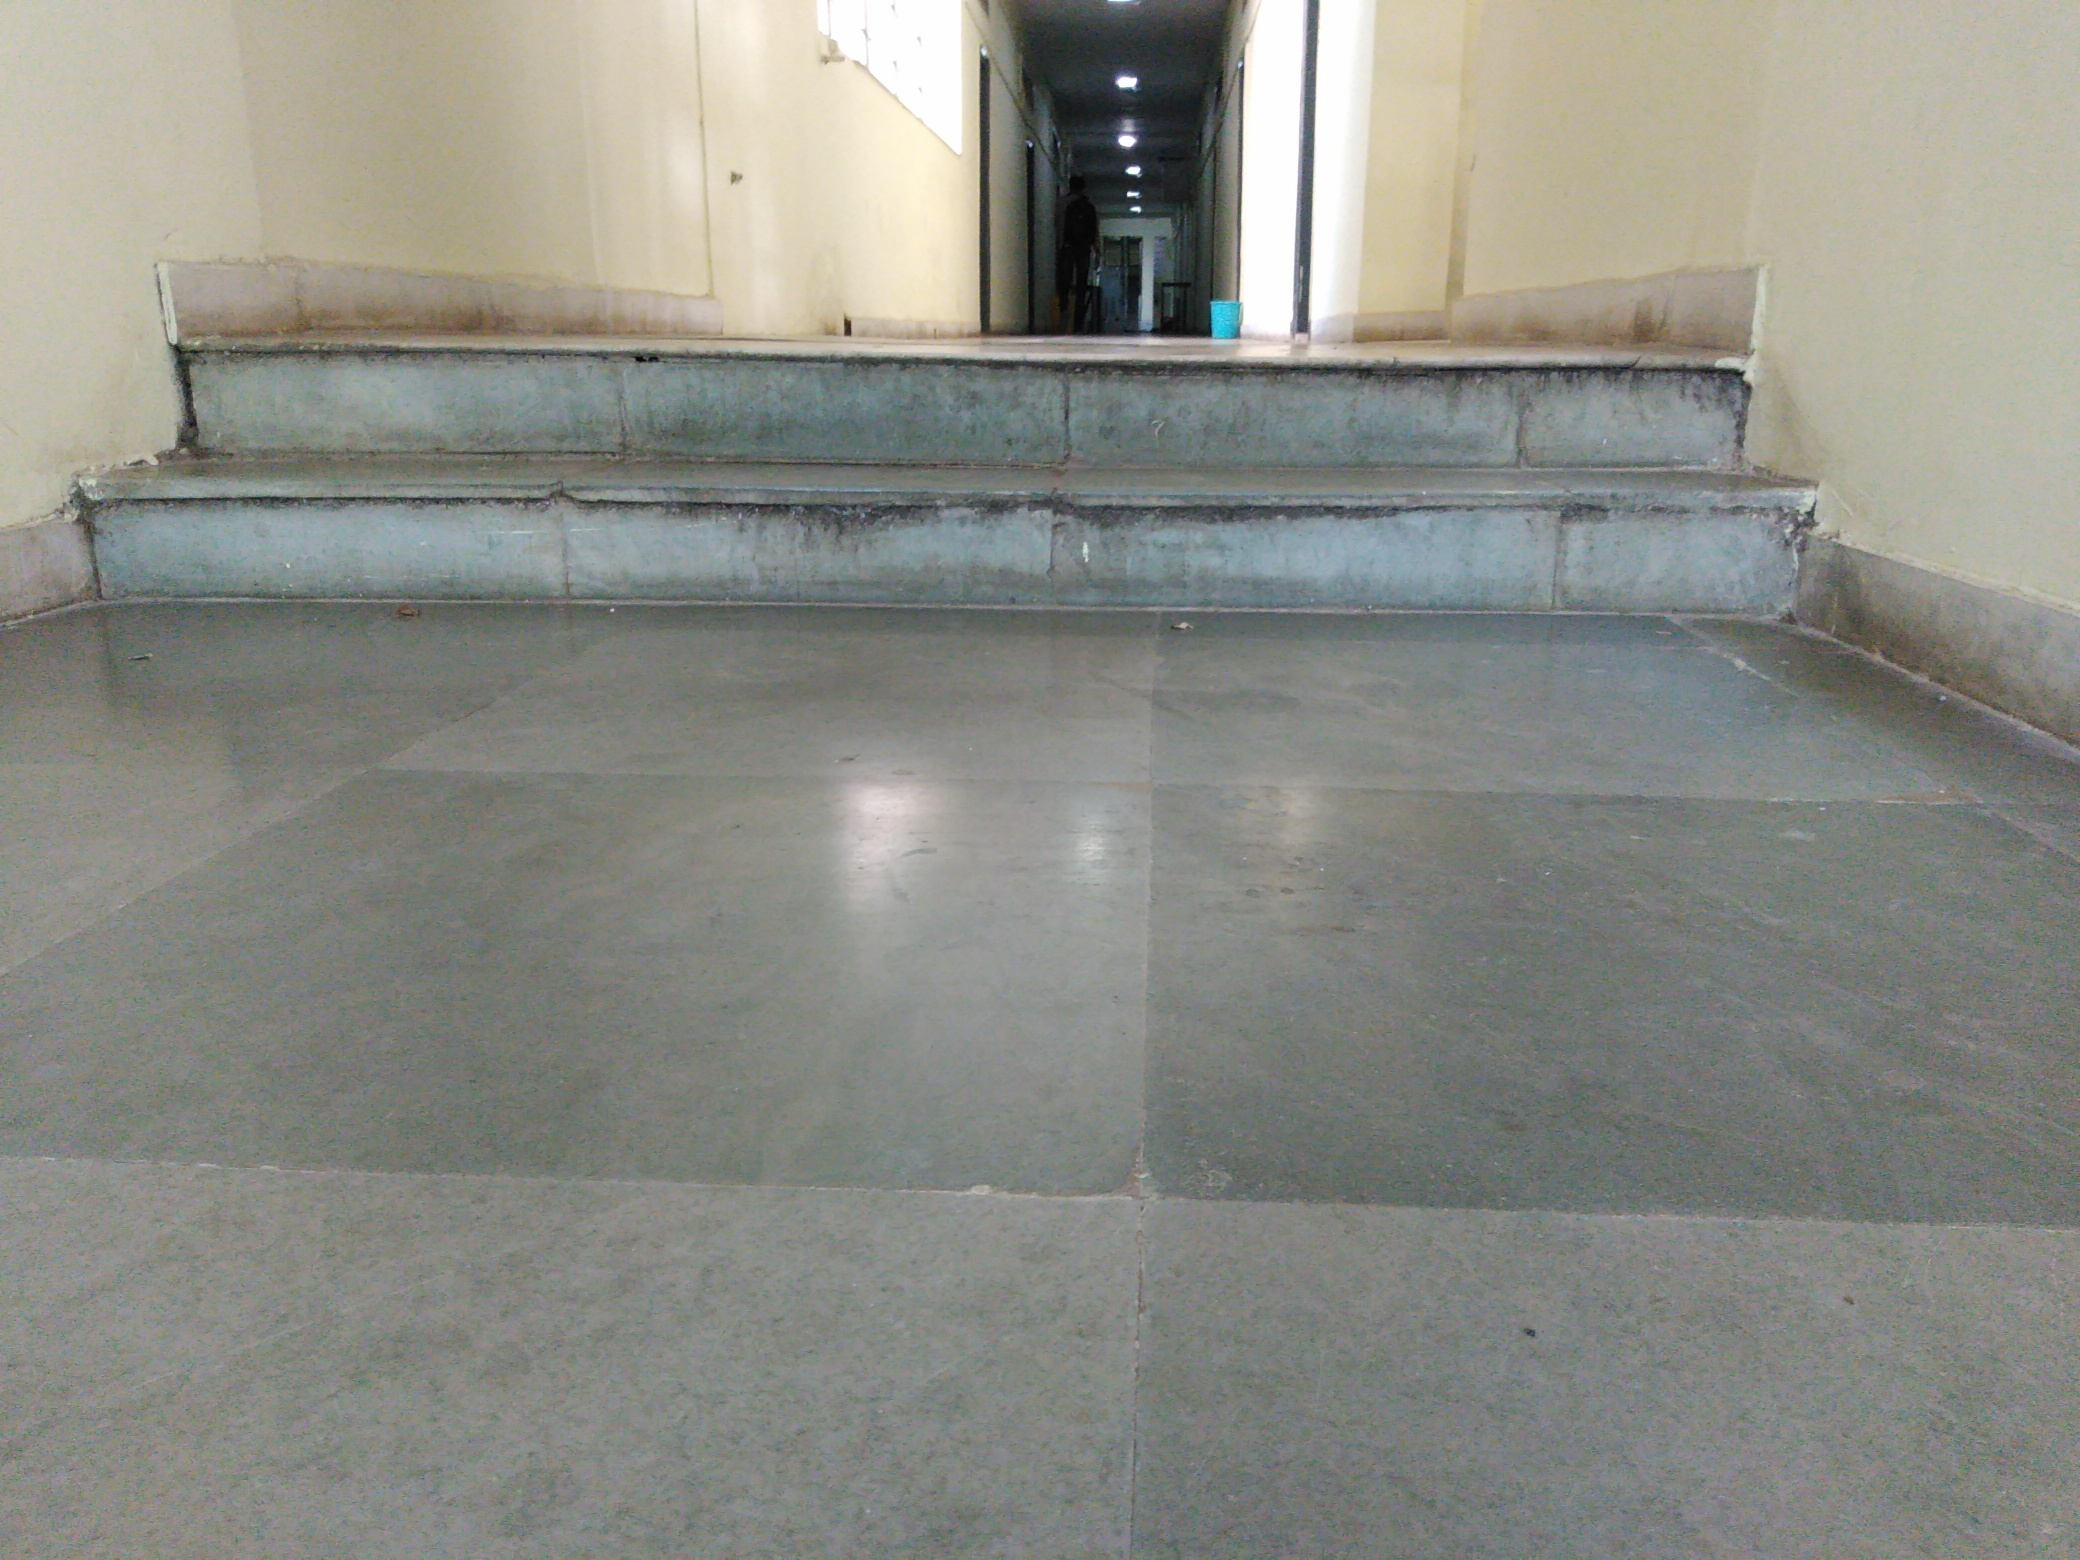stairs_up: (66, 331, 1815, 624)
